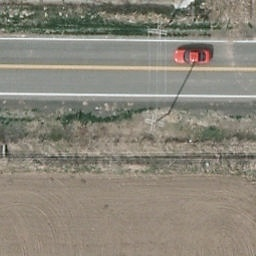car: (173, 49, 211, 64)
